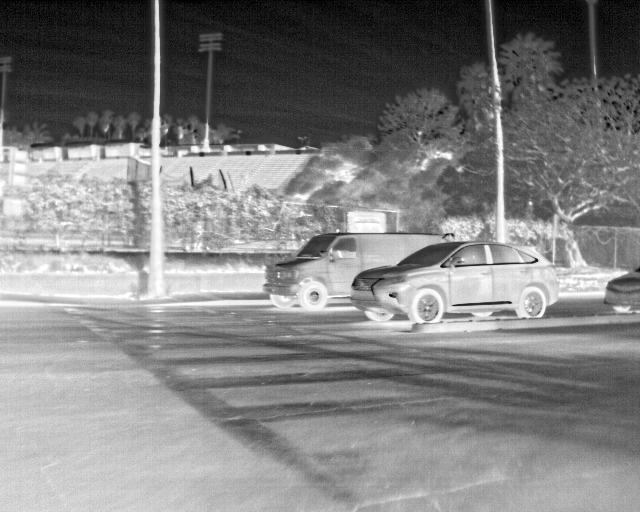car: (348, 238, 560, 325), (265, 233, 452, 310), (604, 264, 639, 317)
